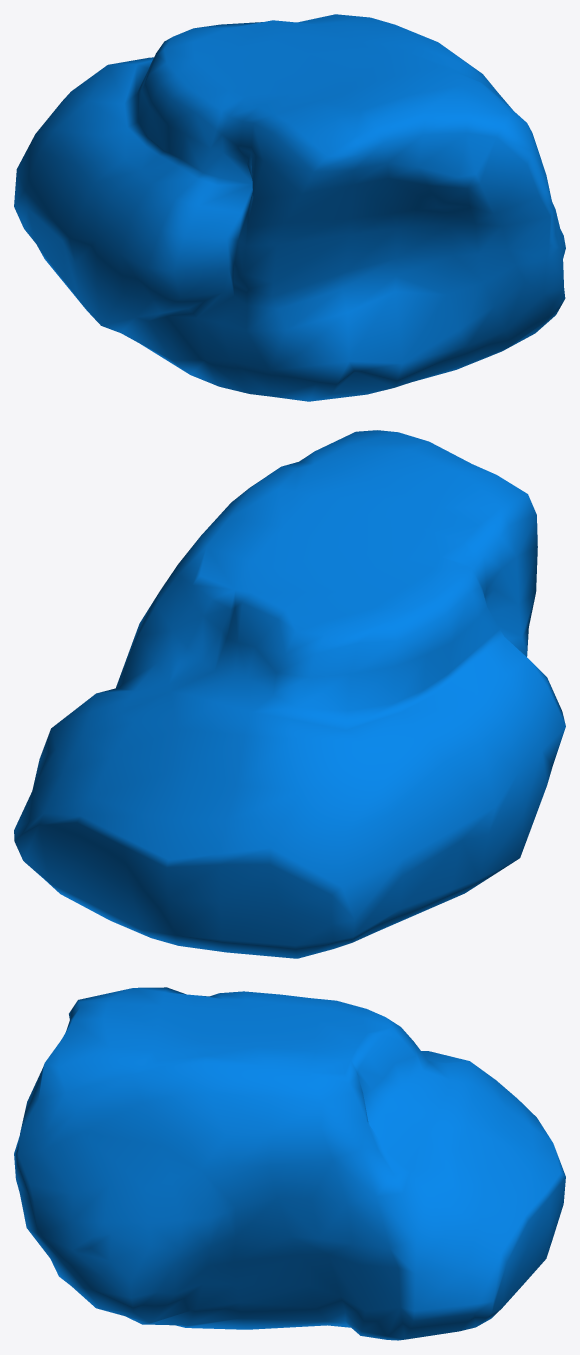
Rendered from Rock_04B.fbx.
3 renders of one model, top to bottom at view 1: azimuth 30°, elevation 25°; view 2: azimuth 150°, elevation 25°; view 3: azimuth 270°, elevation 25°, orthographic. The views are drawn at different scales.
Visible parts, largest first — view 1: Rock_04B; view 2: Rock_04B; view 3: Rock_04B.
Part boxes in pixels (bbox=[...]): Rock_04B: bbox=[14, 14, 565, 401]; Rock_04B: bbox=[14, 430, 565, 958]; Rock_04B: bbox=[14, 987, 565, 1340].
Size of the model in its own units: 3789 by 3030 by 5259.
